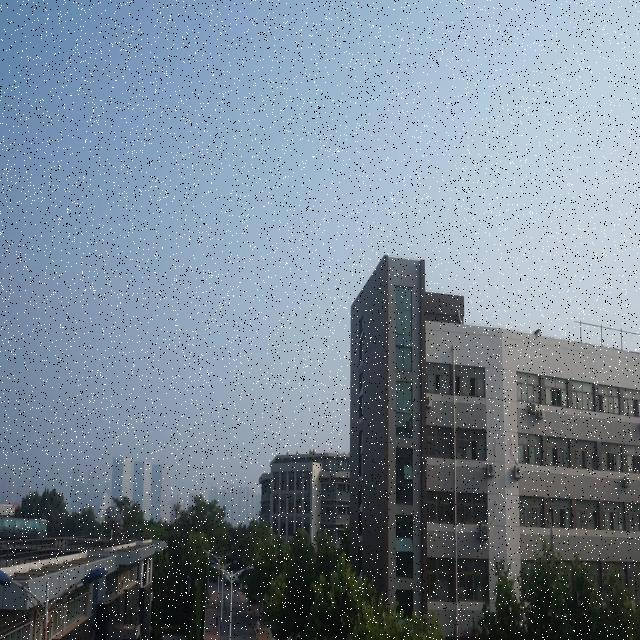UAV: (533, 324, 543, 340)
